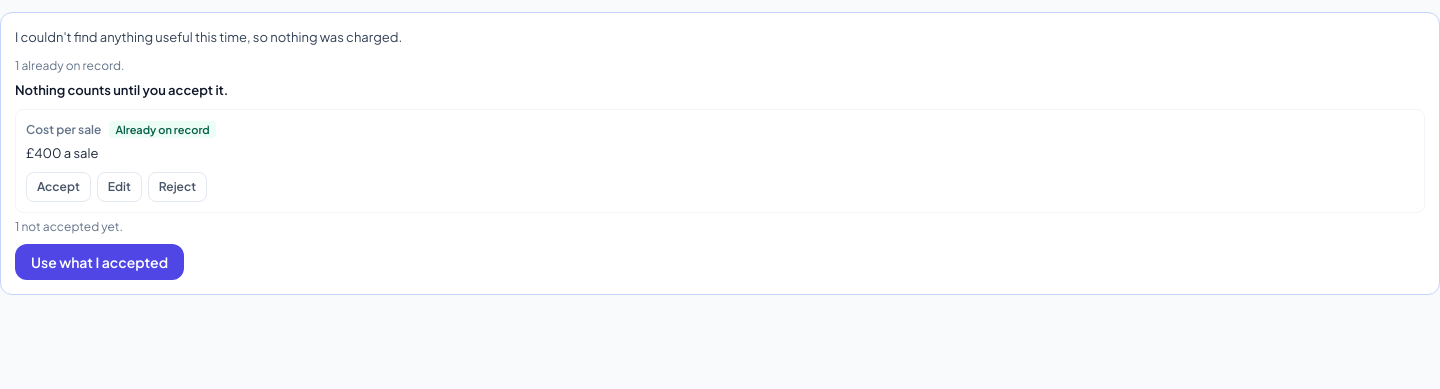
Accept after an edit (the owner's QA, 20 Oct) › an unsaved edit is saved by Accept
Click the button "Edit": x=119, y=187 [97,172,142,202]
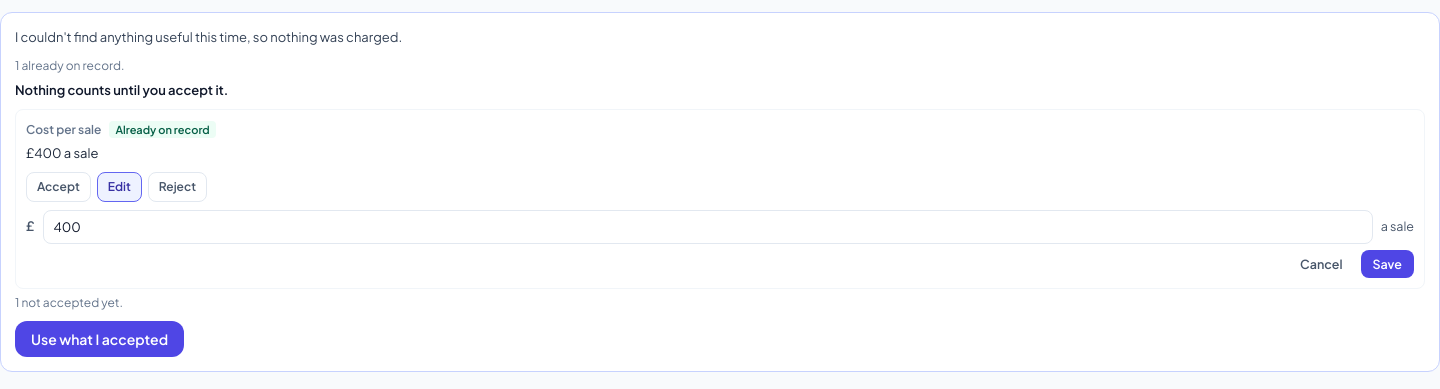
Replace the text in the text box named "Your version: Cost per sale" with "350": x=708, y=227 [42,210,1373,244]
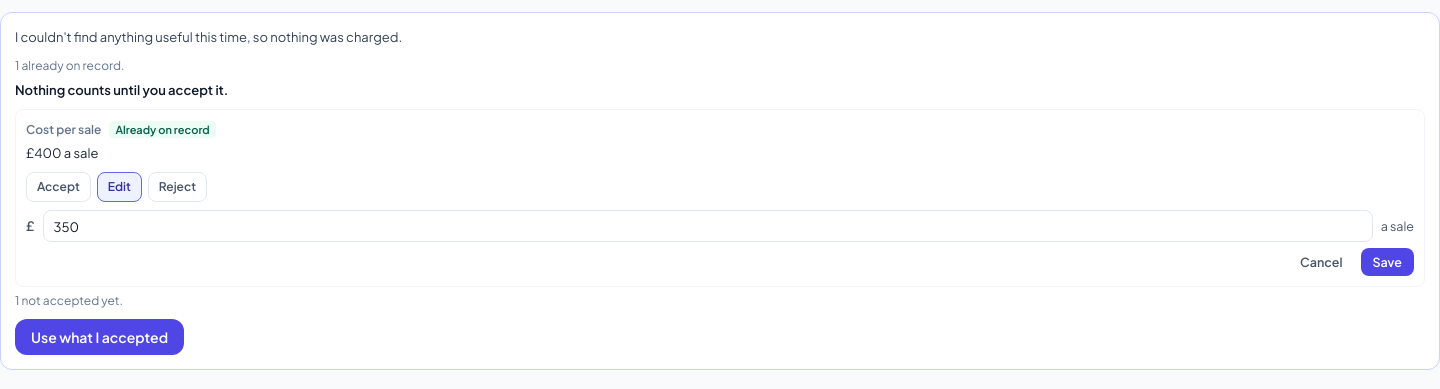
Click the button "Accept": x=58, y=187 [26,172,91,202]
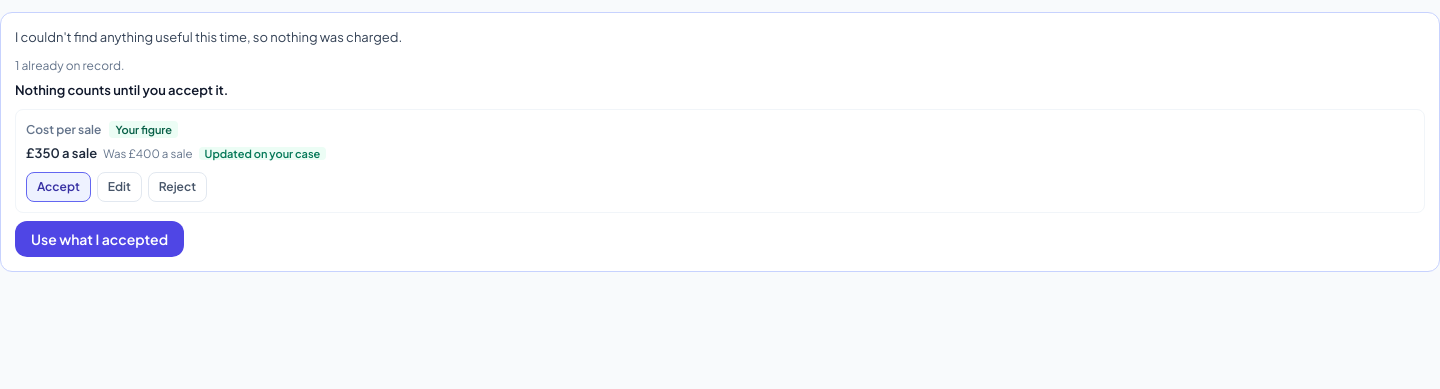
Now the element that starts with "£350 a sale" is shown, box [26,145,97,161]
